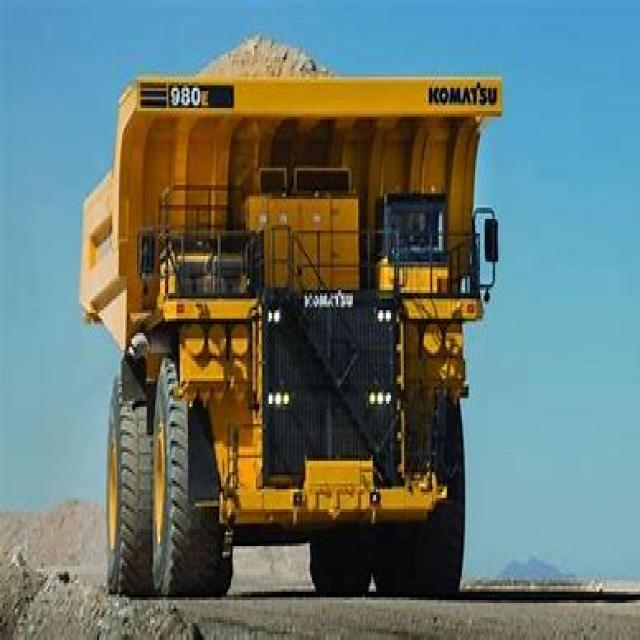dump_truck: (71, 37, 491, 600)
